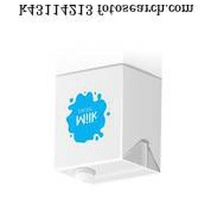carton: (50, 57, 171, 190)
